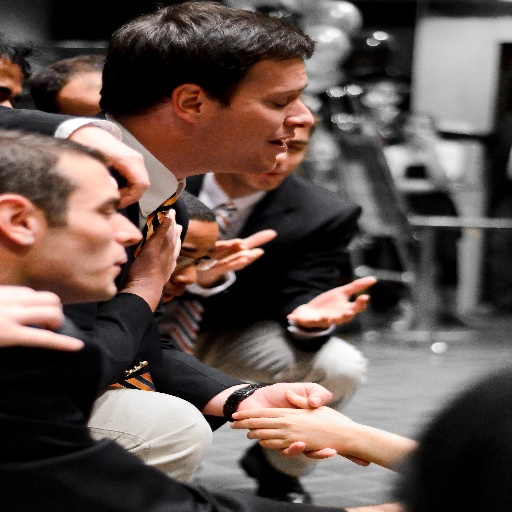hand: (233, 380, 372, 467), (75, 125, 150, 208), (0, 283, 87, 352), (281, 274, 379, 330), (197, 227, 276, 286), (128, 207, 179, 287), (213, 239, 245, 261)
